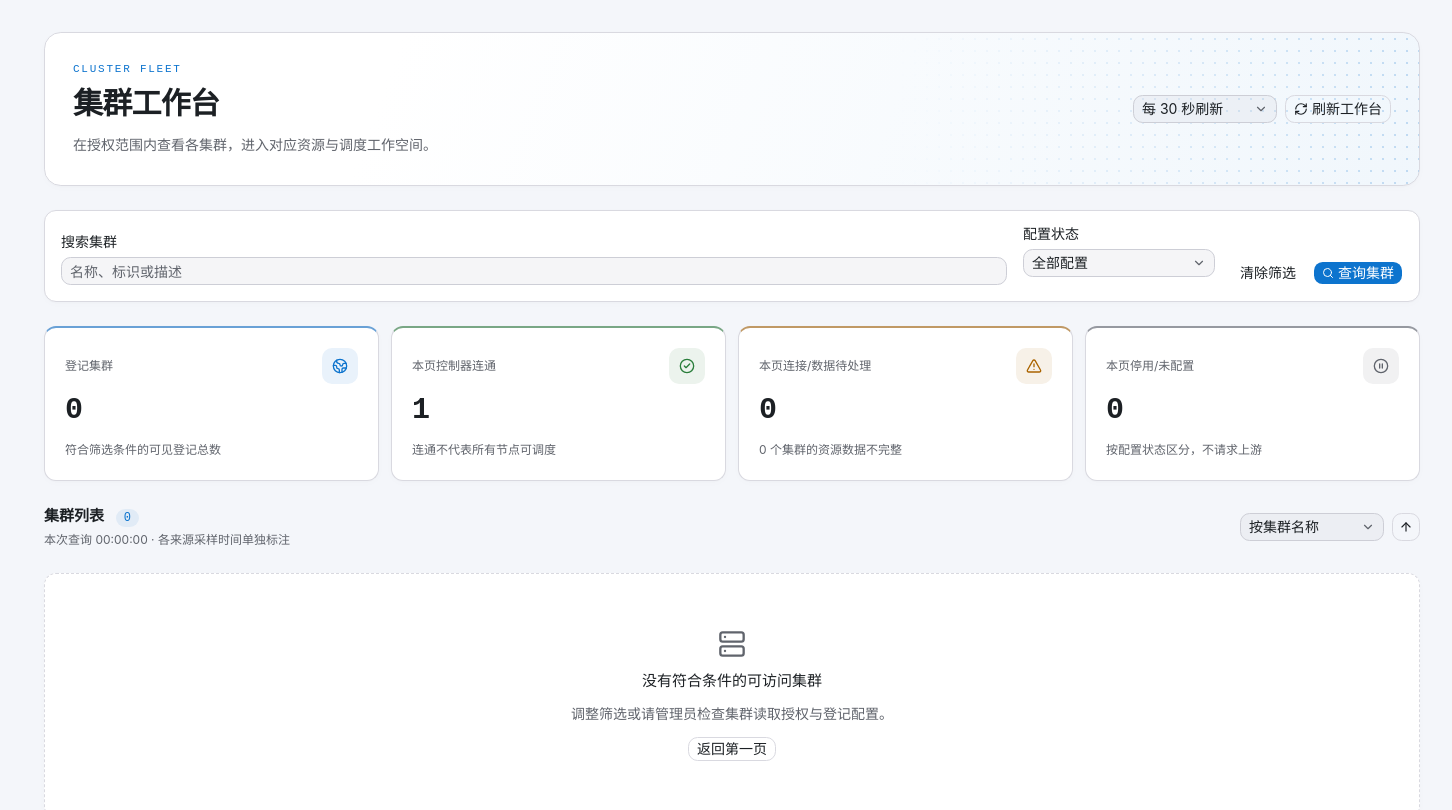
Test: 空授权范围不显示伪造集群，页码越界可回到第一页
The width and height of the screenshot is (1452, 810).
Expected: the heading "没有符合条件的可访问集群" is shown, [642,671,822,690]
Click the button "返回第一页": (732, 749) [688,737,776,761]
(page scrolled)
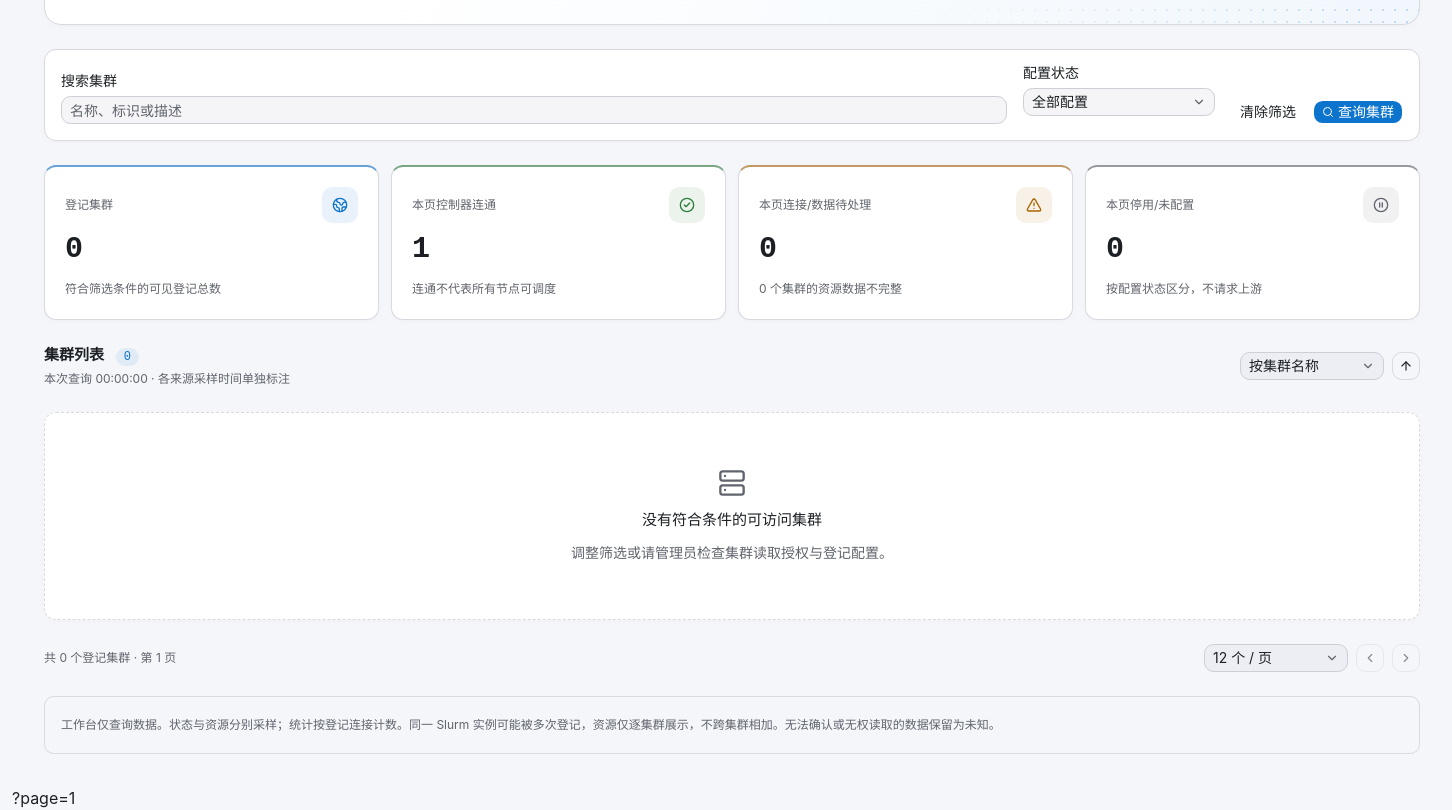
Expected: the text named "当前查询" shows "page=1", [12,788,75,808]
